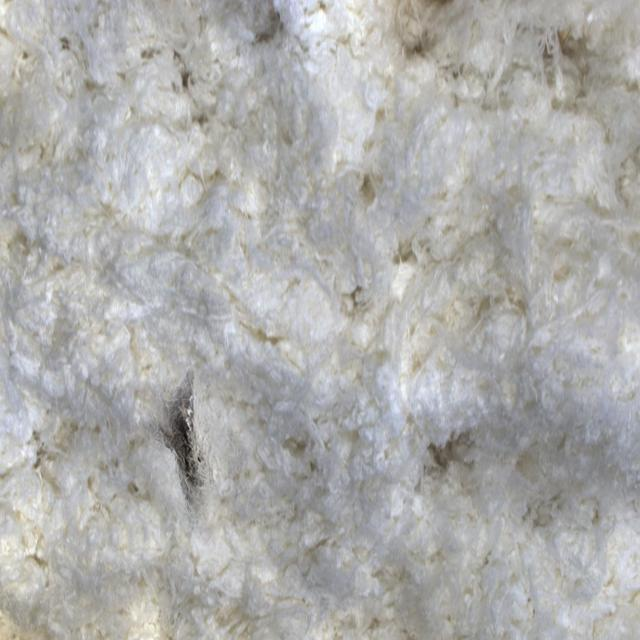dust: (107, 344, 258, 546)
